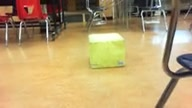cube: (88, 32, 125, 69)
